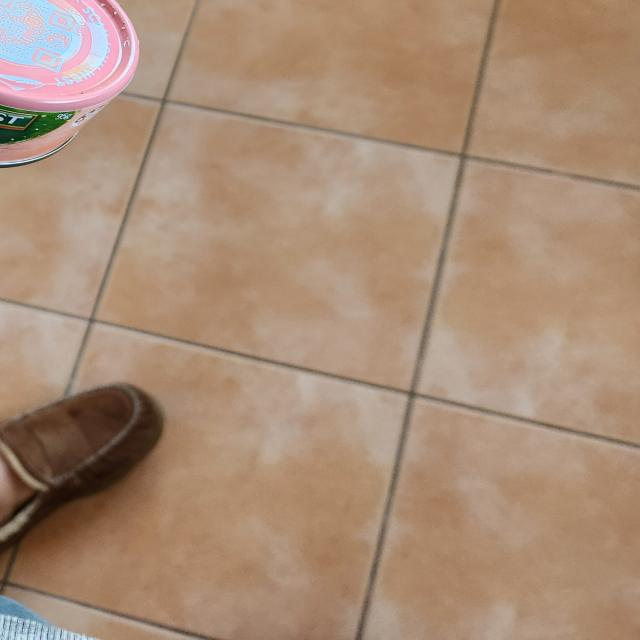salmon: (0, 0, 142, 170)
